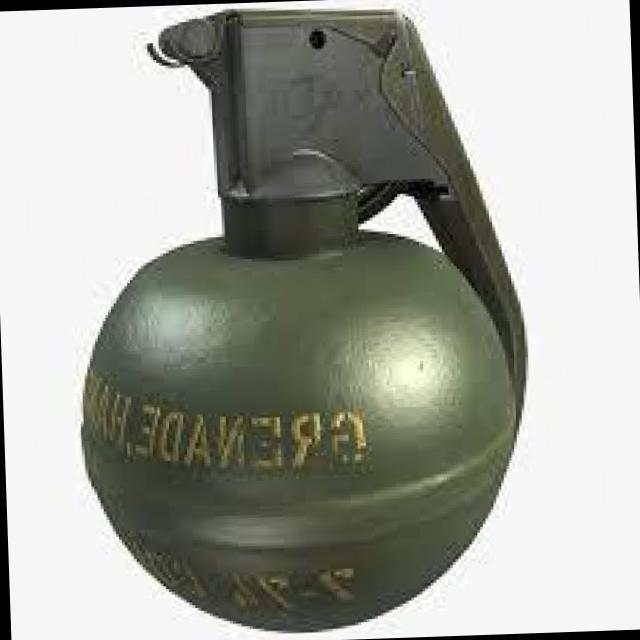grenade: (72, 15, 540, 640)
